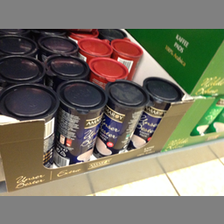coffee: (57, 80, 110, 165), (98, 81, 148, 157), (131, 78, 179, 148)
